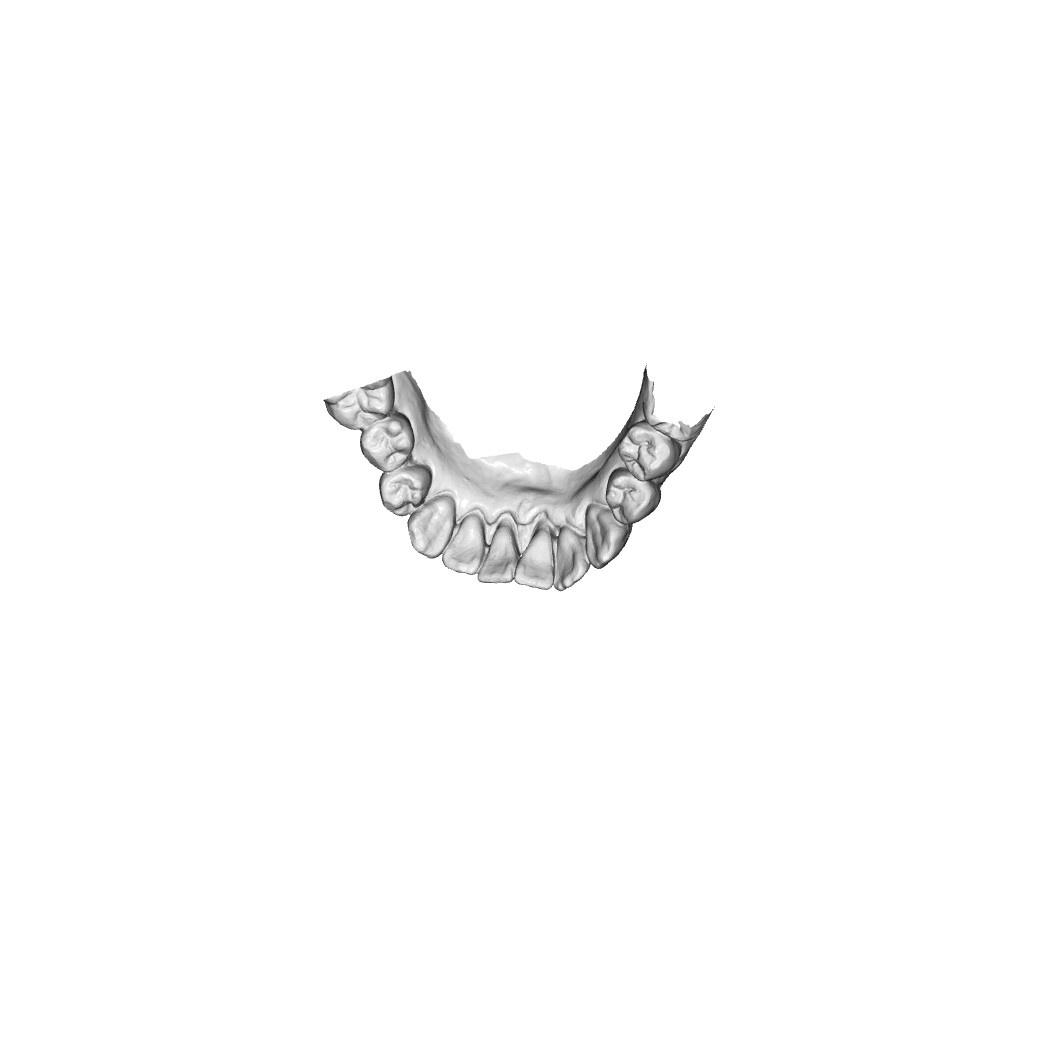canine: (407, 498, 454, 560), (585, 508, 629, 568)
incisor: (475, 518, 521, 586), (514, 525, 556, 590), (442, 513, 484, 573), (555, 530, 585, 593)
premolar: (620, 419, 676, 480), (358, 415, 414, 472), (374, 466, 434, 519), (603, 469, 660, 524)
